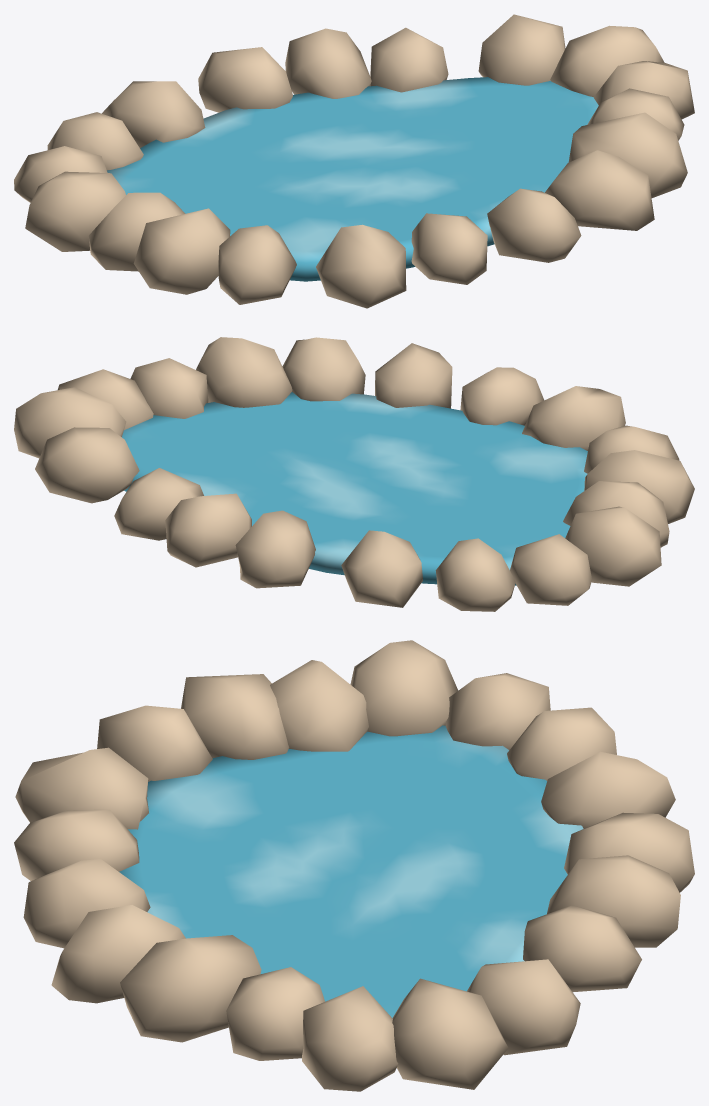
File: pond.glb
The picture shows the model from 3 angles, top to bottom: view 1: azimuth 30°, elevation 25°; view 2: azimuth 150°, elevation 25°; view 3: azimuth 270°, elevation 25°; orthographic projection. The views are drawn at different scales.
Parts seen in each view (by area): view 1: body, water; view 2: body, water; view 3: body, water.
Boxes of the visible parts, left/top/right/bottom form: body: left=14, top=14, right=694, bottom=308; water: left=107, top=77, right=598, bottom=281; body: left=14, top=337, right=694, bottom=611; water: left=122, top=392, right=587, bottom=585; body: left=14, top=640, right=694, bottom=1091; water: left=119, top=725, right=583, bottom=1017.
Size of the model in its own units: 2.54 by 0.2496 by 1.82.
